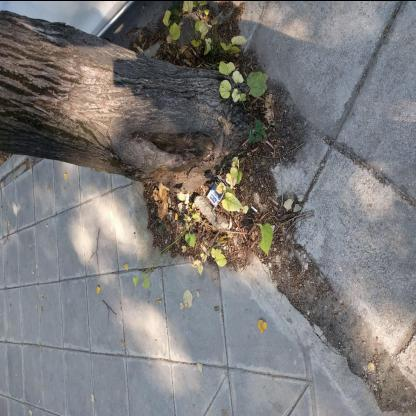karton: (208, 176, 230, 208)
